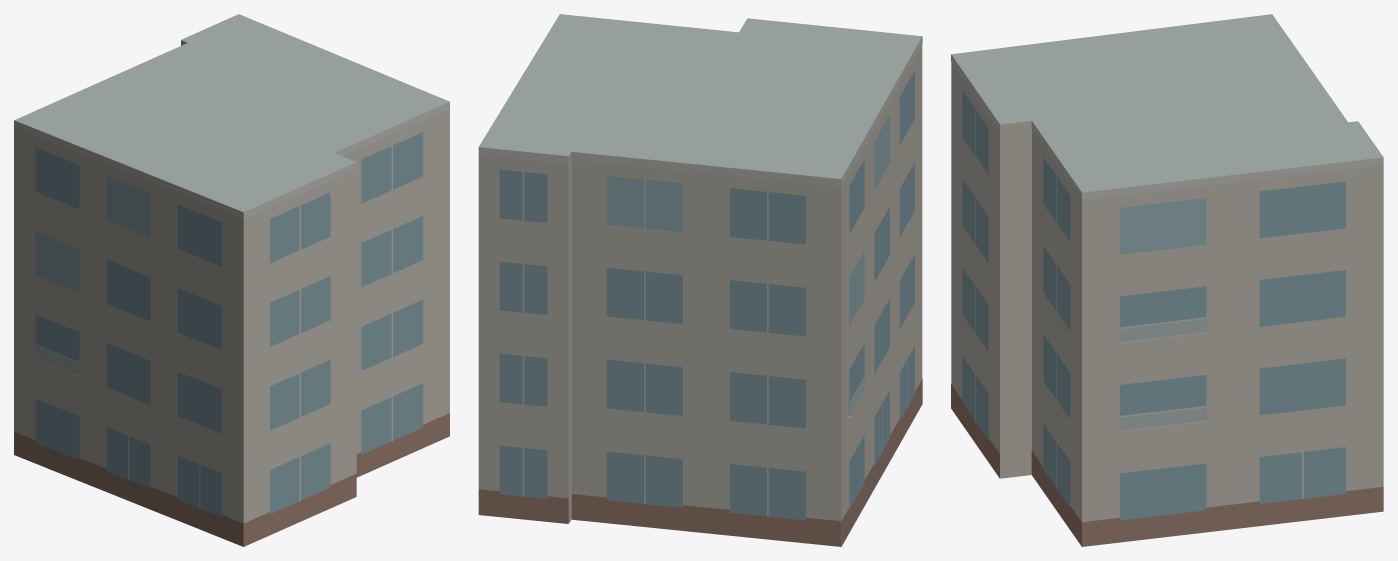
The model's file is survey-upis-32673360.glb.
The picture shows the model from 3 angles, left to right: view 1: azimuth 30°, elevation 25°; view 2: azimuth 150°, elevation 25°; view 3: azimuth 270°, elevation 25°; orthographic projection. The views are drawn at different scales.
Visible parts, largest first — view 1: survey-upis-32673360.tmp; view 2: survey-upis-32673360.tmp; view 3: survey-upis-32673360.tmp.
Boxes of the visible parts, x1,y1,x2,y2 form: survey-upis-32673360.tmp: (14,14,449,546); survey-upis-32673360.tmp: (478,14,922,546); survey-upis-32673360.tmp: (951,14,1383,546).
Size of the model in its own units: 12.72 by 11.75 by 13.02.
